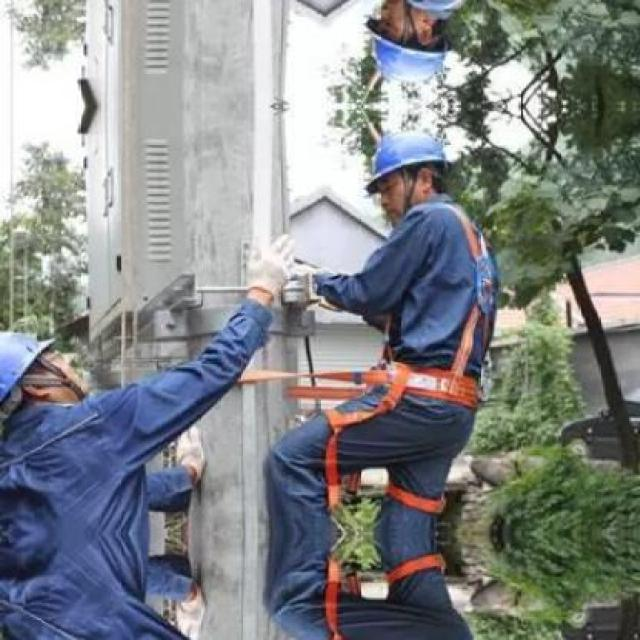helmet: (362, 121, 456, 220), (361, 0, 457, 93), (0, 328, 91, 417)
